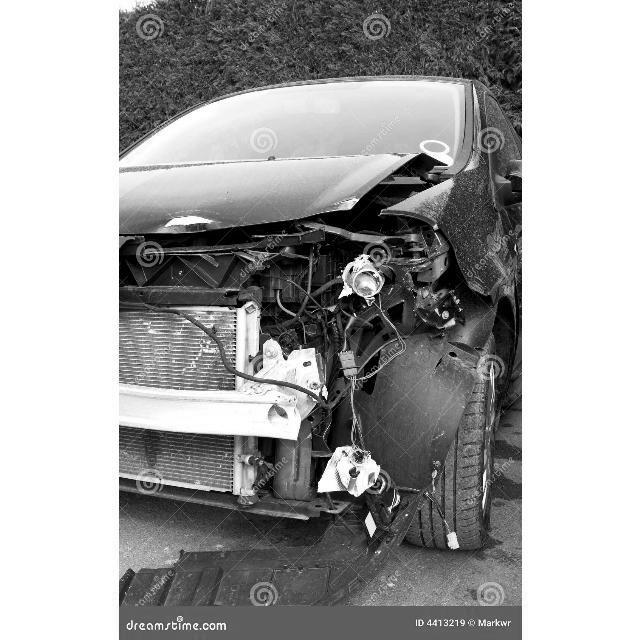Headlight-damage: (274, 221, 443, 345)
bonnet-dent: (119, 157, 438, 247)
fender-dent: (465, 240, 522, 351)
front-bumper-dent: (118, 310, 450, 528)
